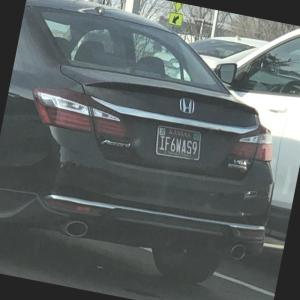Plate: (155, 125, 202, 161)
